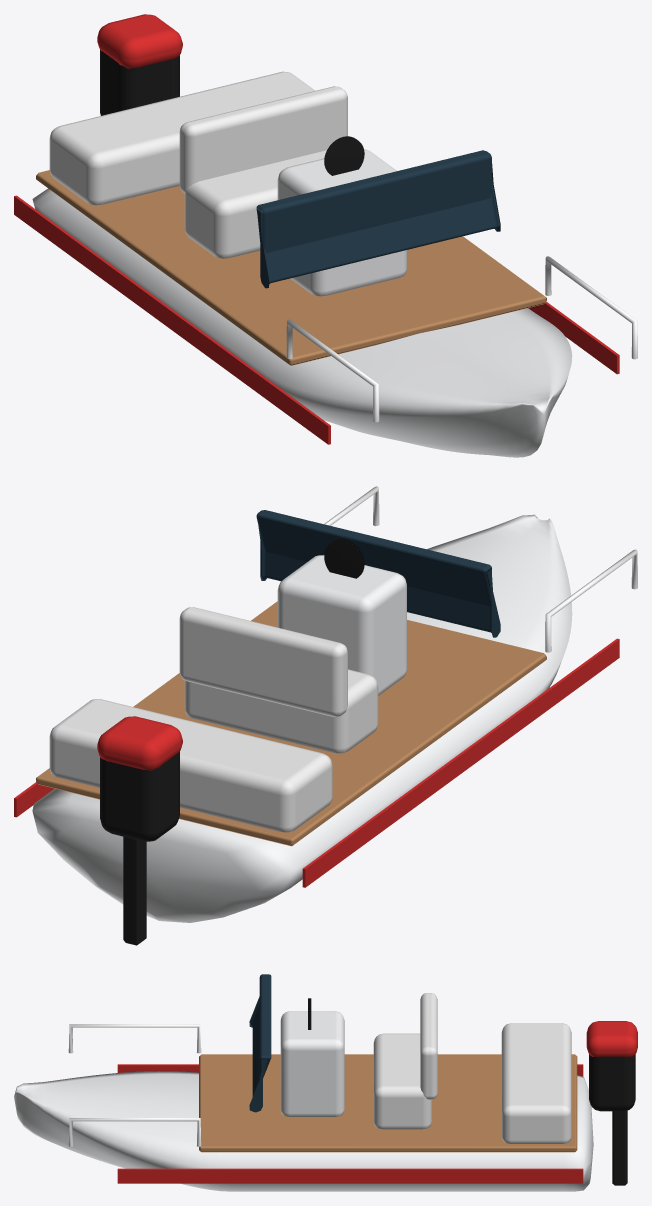
File: boat.glb
3 renders of one model, top to bottom at view 1: azimuth 30°, elevation 25°; view 2: azimuth 150°, elevation 25°; view 3: azimuth 270°, elevation 25°, orthographic. The views are drawn at different scales.
Parts seen in each view (by area): view 1: hull, deck, windshield, bench, seatback, stripe_l, seat, console, motor, motor_cap, stripe_r, wheel (+2 smaller); view 2: hull, deck, bench, seatback, windshield, console, seat, stripe_l, motor, motor_cap, leg, wheel (+2 smaller); view 3: hull, deck, bench, stripe_r, console, seat, motor, windshield, seatback, motor_cap, leg, stripe_l (+2 smaller).
Part boxes in pixels (left/top/right/bottom): hull: left=32, top=188, right=572, bottom=457; deck: left=36, top=170, right=546, bottom=365; windshield: left=256, top=150, right=500, bottom=288; bench: left=49, top=71, right=315, bottom=205; seatback: left=179, top=86, right=347, bottom=193; stripe_l: left=14, top=195, right=330, bottom=444; seat: left=184, top=150, right=326, bottom=258; console: left=277, top=149, right=406, bottom=296; motor: left=100, top=49, right=179, bottom=115; motor_cap: left=97, top=14, right=182, bottom=68; stripe_r: left=528, top=301, right=619, bottom=374; wheel: left=324, top=136, right=364, bottom=175; hull: left=32, top=514, right=572, bottom=922; deck: left=36, top=601, right=546, bottom=846; bench: left=49, top=699, right=332, bottom=832; seatback: left=179, top=607, right=347, bottom=716; windshield: left=256, top=510, right=500, bottom=637; console: left=277, top=555, right=406, bottom=695; seat: left=184, top=669, right=378, bottom=753; stripe_l: left=302, top=638, right=619, bottom=887; motor: left=100, top=751, right=179, bottom=841; motor_cap: left=97, top=716, right=182, bottom=770; leg: left=123, top=836, right=146, bottom=945; wheel: left=324, top=539, right=364, bottom=578; hull: left=14, top=1071, right=593, bottom=1191; deck: left=199, top=1054, right=577, bottom=1152; bench: left=501, top=1023, right=571, bottom=1143; stripe_r: left=117, top=1168, right=583, bottom=1183; console: left=280, top=1011, right=344, bottom=1116; seat: left=373, top=1033, right=431, bottom=1129; motor: left=589, top=1054, right=635, bottom=1111; windshield: left=249, top=974, right=271, bottom=1112; seatback: left=420, top=993, right=437, bottom=1099; motor_cap: left=586, top=1021, right=637, bottom=1057; leg: left=612, top=1110, right=627, bottom=1185; stripe_l: left=117, top=1064, right=583, bottom=1076.
Size of the model in its own units: 2.14 by 1.74 by 5.36.
